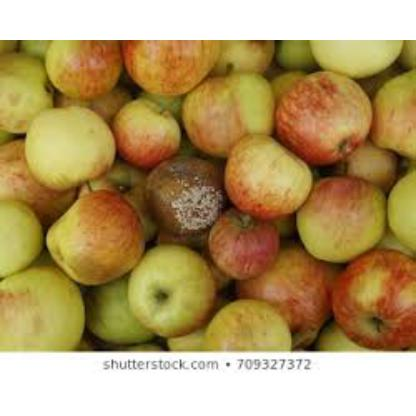apple: (277, 69, 375, 153), (298, 169, 386, 262), (26, 104, 119, 188), (44, 194, 142, 272), (330, 254, 412, 342), (129, 245, 212, 326), (5, 267, 91, 345), (186, 75, 270, 151), (240, 247, 324, 323), (226, 135, 308, 211), (128, 39, 218, 95), (40, 40, 122, 98)
damaged_apple: (132, 159, 224, 243)
